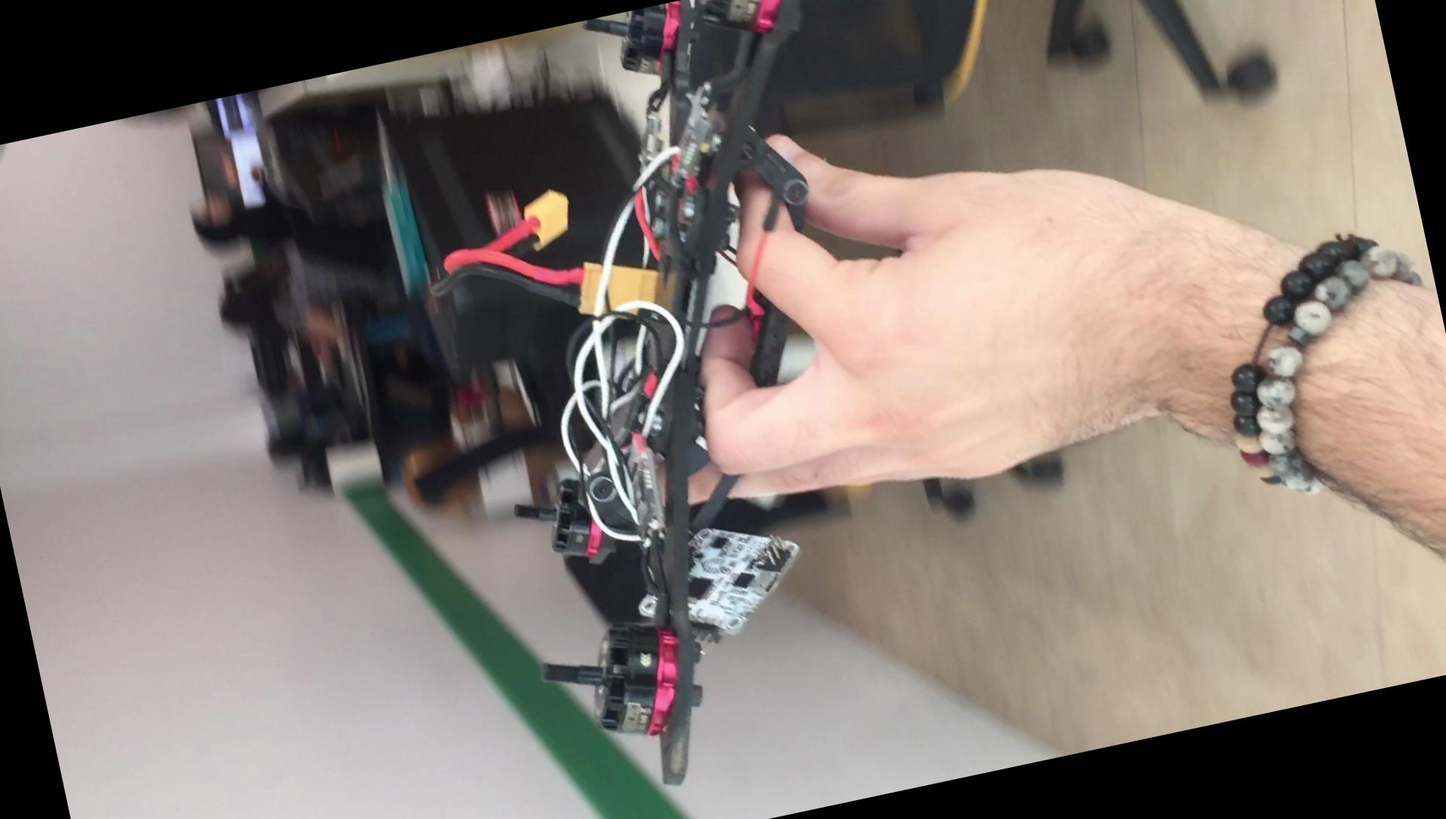drone: (413, 0, 981, 811)
